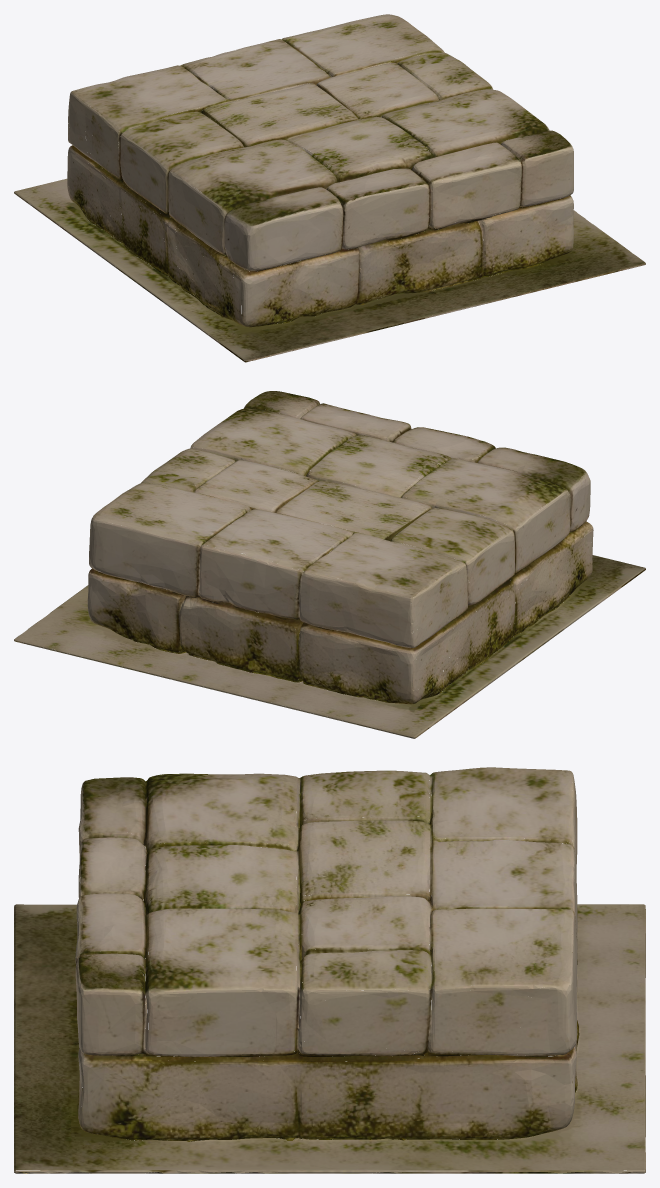
The model's file is wall_brick.glb.
3 views of the same model, one above another, from view 1: azimuth 30°, elevation 25°; view 2: azimuth 150°, elevation 25°; view 3: azimuth 270°, elevation 25° (orthographic). The views are drawn at different scales.
Parts seen in each view (by area): view 1: textured.obj; view 2: textured.obj; view 3: textured.obj.
Boxes of the visible parts, x1,y1,x2,y2 form: textured.obj: (14,14,645,362); textured.obj: (14,391,645,738); textured.obj: (14,767,645,1173).
Bounding box in the file's own units: 0.6 × 0.1683 × 0.5999.
1 material, 1 textured.
